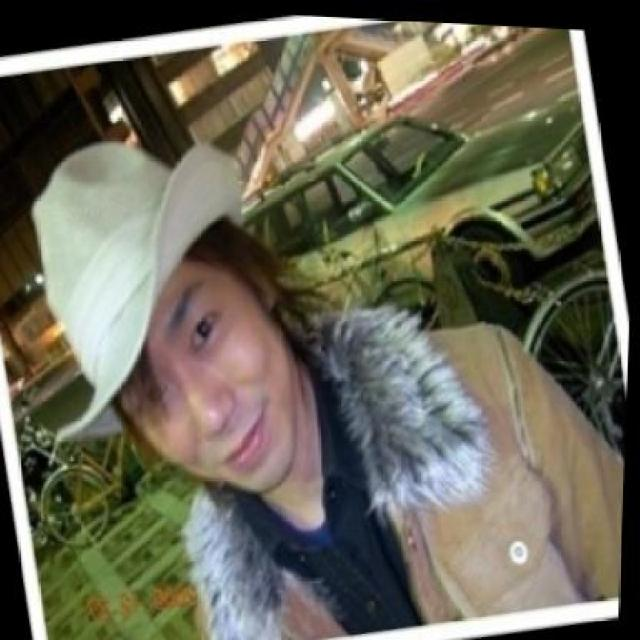hat: (0, 100, 305, 462)
